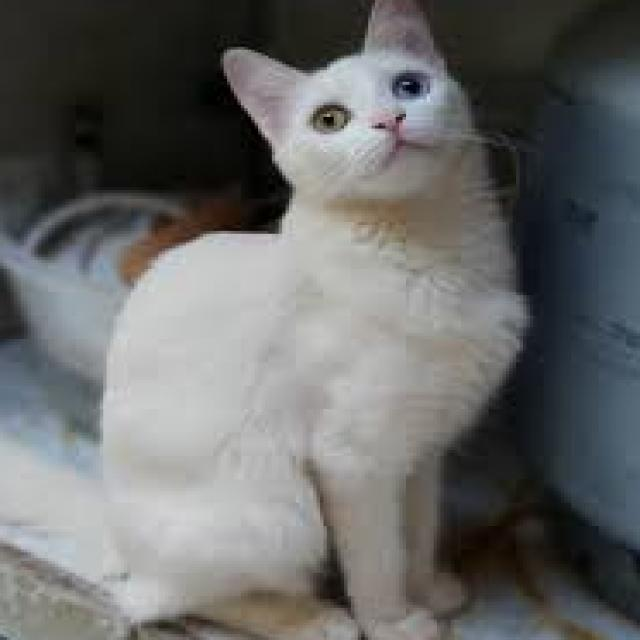Khao Manee: (0, 0, 537, 640)
